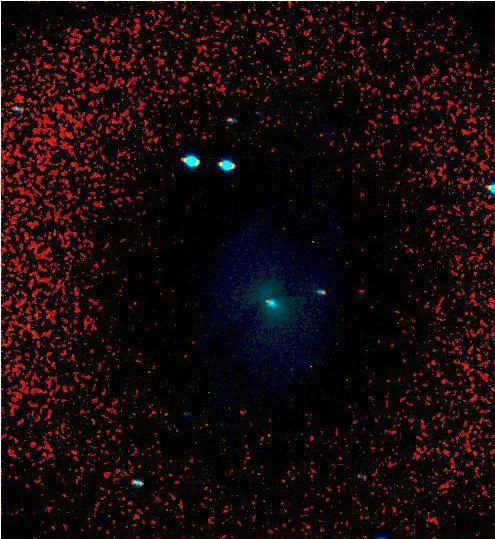star: (251, 286, 281, 316)
